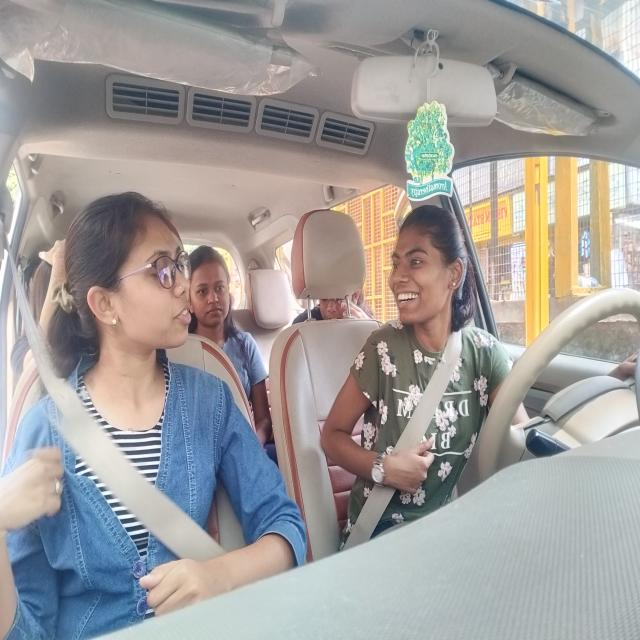LeftRight: (381, 183, 481, 354)
person: (54, 187, 201, 389), (184, 226, 247, 330)
talking: (162, 305, 195, 336)
